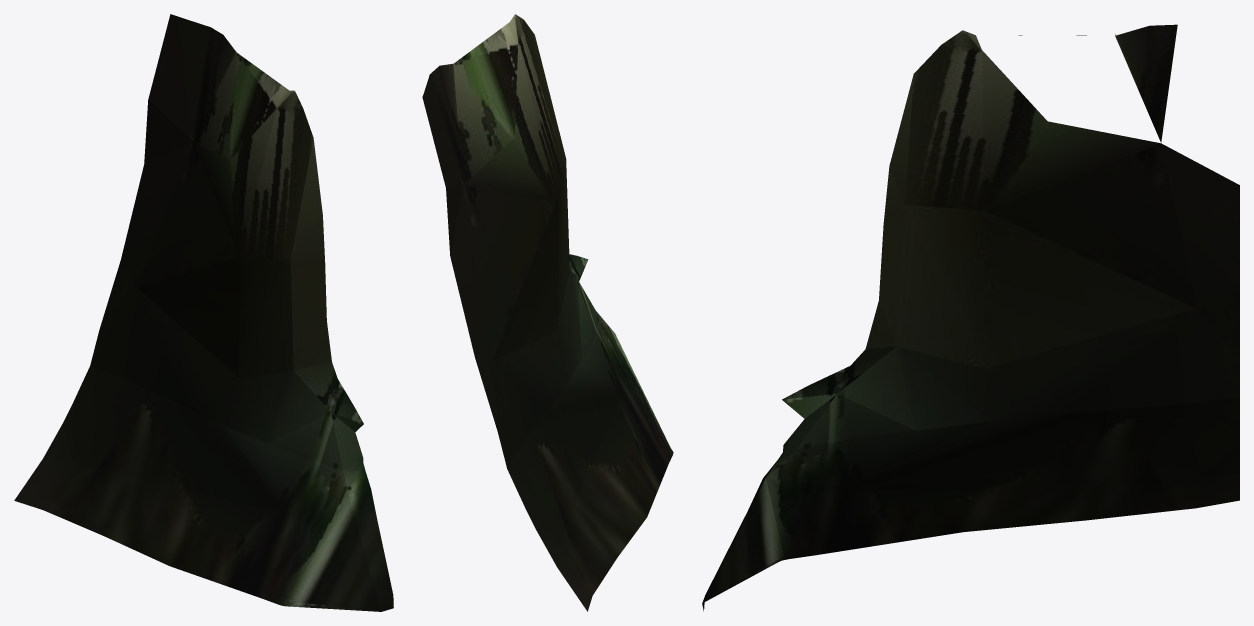
3 renders of one model, left to right at view 1: azimuth 30°, elevation 25°; view 2: azimuth 150°, elevation 25°; view 3: azimuth 270°, elevation 25°, orthographic. The views are drawn at different scales.
Size of the model in its own units: 0.3412 by 0.8374 by 0.6961.
Materials: 2 (2 with a texture image).
